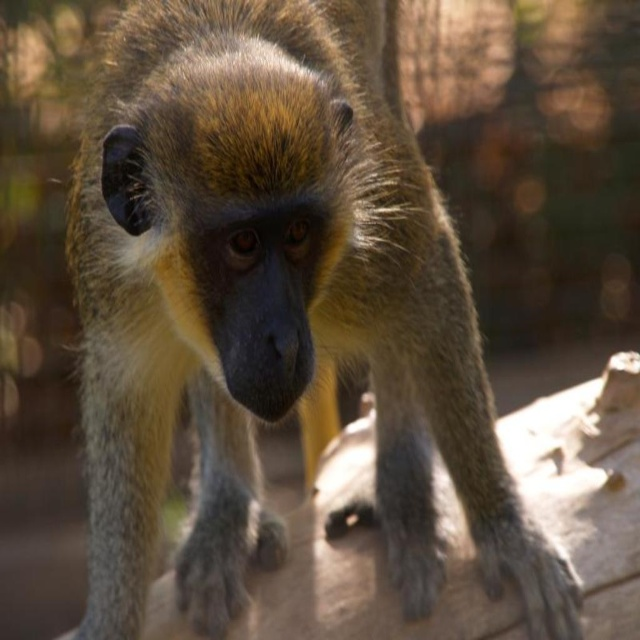Monkey: (47, 0, 584, 640)
